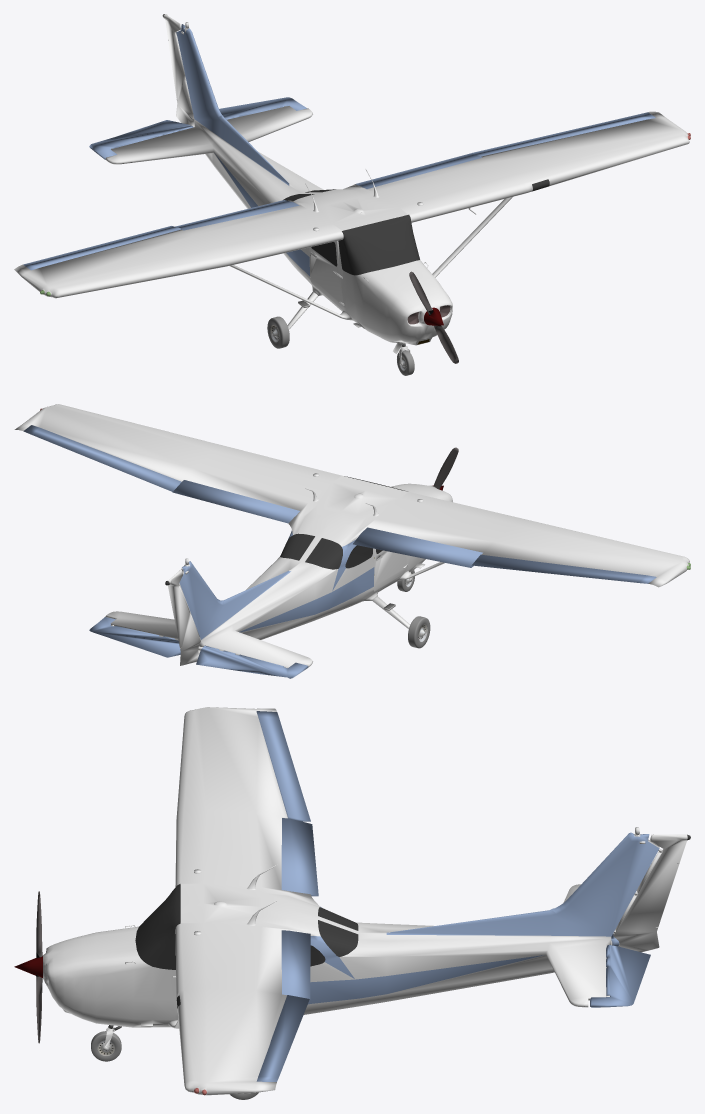
The model's file is cessna.glb.
3 views of the same model, one above another, from view 1: azimuth 30°, elevation 25°; view 2: azimuth 150°, elevation 25°; view 3: azimuth 270°, elevation 25° (orthographic). The views are drawn at different scales.
Visible parts, largest first — view 1: cessna172sp.Shape; view 2: cessna172sp.Shape; view 3: cessna172sp.Shape.
Part boxes in pixels (x1=…): cessna172sp.Shape: x1=14, y1=14, x2=690, y2=375; cessna172sp.Shape: x1=14, y1=404, x2=690, y2=678; cessna172sp.Shape: x1=14, y1=707, x2=690, y2=1099.
Size of the model in its own units: 4.39 by 1.23 by 3.26.
Materials: 59 (3 with a texture image).
